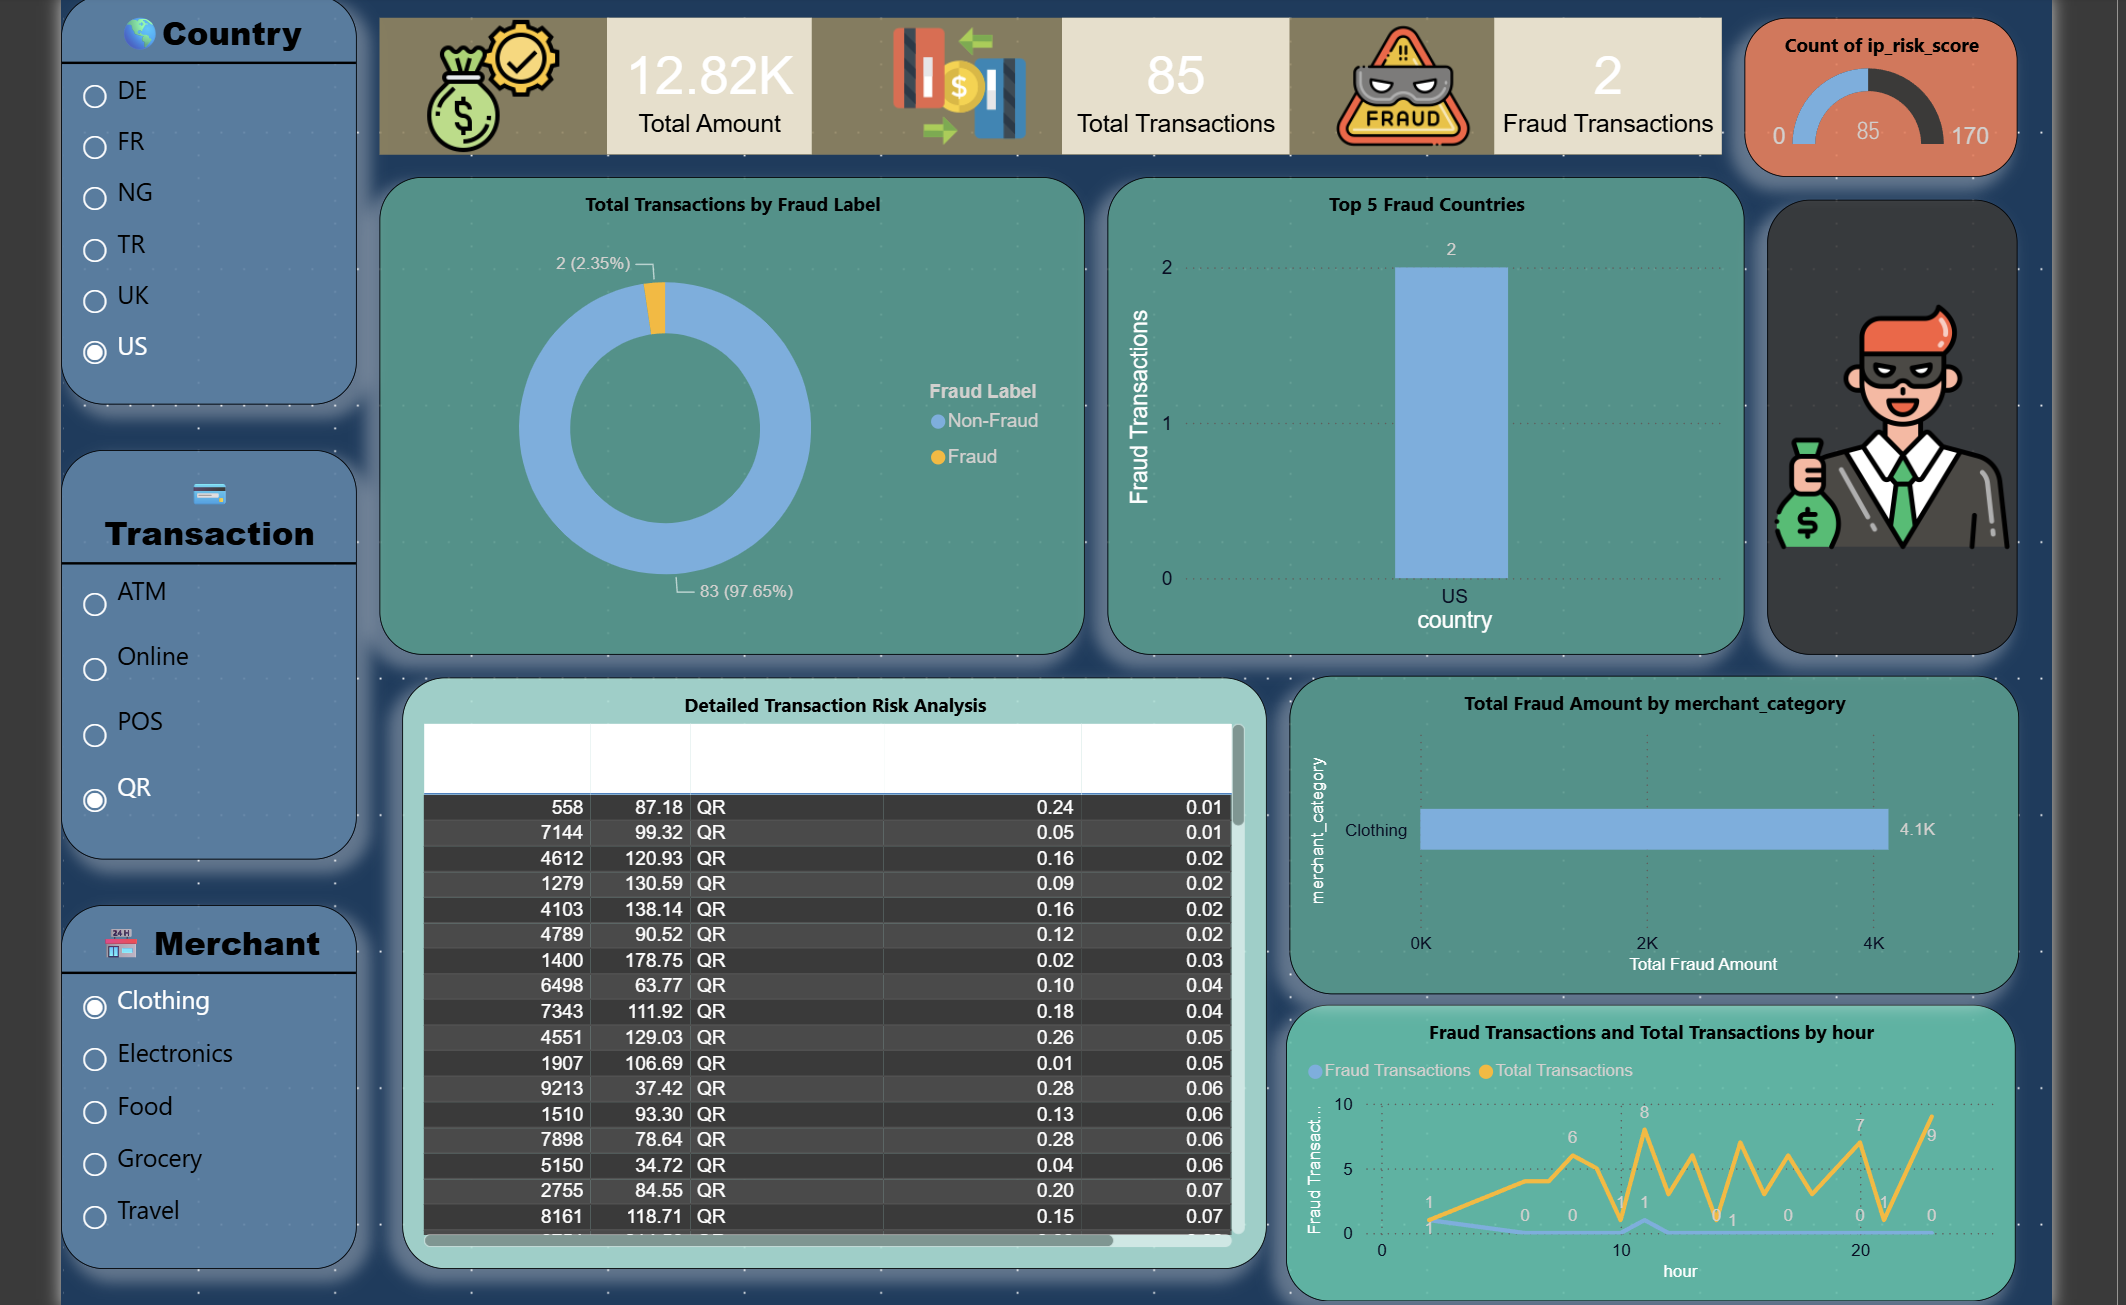

What the dashboard file says about the page in this screenshot:
{"tool":"powerbi","page":{"name":"Overview","canvas":[1400,925],"ordinal":1},"visuals":[{"type":"card","fields":{"Values":["synthetic_fraud_dataset.Total Transactions"]},"box":[704,16,160,96],"z":0,"group":"g1"},{"type":"card","fields":{"Values":["synthetic_fraud_dataset.Total Amount"]},"box":[384,16,144,96],"z":1000,"group":"g1"},{"type":"donutChart","fields":{"Y":["synthetic_fraud_dataset.Total Transactions"],"Category":["synthetic_fraud_dataset.Fraud Label"]},"box":[224,128,496,336],"z":1000},{"type":"card","fields":{"Values":["synthetic_fraud_dataset.Fraud Transactions"]},"box":[1008,16,160,96],"z":2000,"group":"g1"},{"type":"clusteredColumnChart","title":"Top 5 Fraud Countries","fields":{"Category":["synthetic_fraud_dataset.country"],"Y":["synthetic_fraud_dataset.Fraud Transactions"]},"box":[736,128,448,336],"z":2000},{"type":"listSlicer","title":"🌎Country","fields":{"Values":["synthetic_fraud_dataset.country"]},"box":[0,0,208,288],"z":3000},{"type":"image","box":[224,16,160,96],"z":3000,"group":"g1"},{"type":"image","box":[560,16,144,96],"z":4000,"group":"g1"},{"type":"listSlicer","title":"💳 Transaction","fields":{"Values":["synthetic_fraud_dataset.transaction_type"]},"box":[0,320,208,288],"z":4000},{"type":"image","box":[864,16,160,96],"z":5000,"group":"g1"},{"type":"lineChart","fields":{"Category":["synthetic_fraud_dataset.hour"],"Y":["synthetic_fraud_dataset.Fraud Transactions","synthetic_fraud_dataset.Total Transactions"]},"box":[862,710.6,513,208.8],"z":5000},{"type":"listSlicer","title":"🏪 Merchant","fields":{"Values":["synthetic_fraud_dataset.merchant_category"]},"box":[0,640,208,256],"z":6000},{"type":"tableEx","title":"Detailed Transaction Risk Analysis","fields":{"Values":["synthetic_fraud_dataset.transaction_id","synthetic_fraud_dataset.amount","synthetic_fraud_dataset.transaction_type","synthetic_fraud_dataset.device_risk_score","synthetic_fraud_dataset.ip_risk_score","synthetic_fraud_dataset.Fraud Label"]},"box":[240,480,608,416],"z":7000},{"type":"clusteredBarChart","fields":{"Category":["synthetic_fraud_dataset.merchant_category"],"Y":["synthetic_fraud_dataset.Total Fraud Amount"]},"box":[863.4,479.4,513,224.3],"z":8000},{"type":"image","box":[1200,144,176,320],"z":9000},{"type":"gauge","fields":{"Y":["Count(synthetic_fraud_dataset.ip_risk_score)"]},"box":[1184,16,192,112],"z":12000},{"type":"group","id":"g1","title":"Group 1","box":[224,16,944,96],"z":13000}]}

Visuals, with their boxes on the page's 1400x925 design canvas (x1, y1, x2, y2). These are canvas units, not pixel positions in the 2126x1305 screenshot, which may show the page scaled, cropped or inside an application window:
card - synthetic_fraud_dataset.Total Transactions: box(704, 16, 864, 112)
card - synthetic_fraud_dataset.Total Amount: box(384, 16, 528, 112)
donutChart - synthetic_fraud_dataset.Total Transactions x synthetic_fraud_dataset.Fraud Label: box(224, 128, 720, 464)
card - synthetic_fraud_dataset.Fraud Transactions: box(1008, 16, 1168, 112)
"Top 5 Fraud Countries" clusteredColumnChart: box(736, 128, 1184, 464)
"🌎Country" listSlicer: box(0, 0, 208, 288)
image: box(224, 16, 384, 112)
image: box(560, 16, 704, 112)
"💳 Transaction" listSlicer: box(0, 320, 208, 608)
image: box(864, 16, 1024, 112)
lineChart - synthetic_fraud_dataset.hour x synthetic_fraud_dataset.Fraud Transactions: box(862, 711, 1375, 919)
"🏪 Merchant" listSlicer: box(0, 640, 208, 896)
"Detailed Transaction Risk Analysis" tableEx: box(240, 480, 848, 896)
clusteredBarChart - synthetic_fraud_dataset.merchant_category x synthetic_fraud_dataset.Total Fraud Amount: box(863, 479, 1376, 704)
image: box(1200, 144, 1376, 464)
gauge - Count(synthetic_fraud_dataset.ip_risk_score): box(1184, 16, 1376, 128)
"Group 1" group: box(224, 16, 1168, 112)
